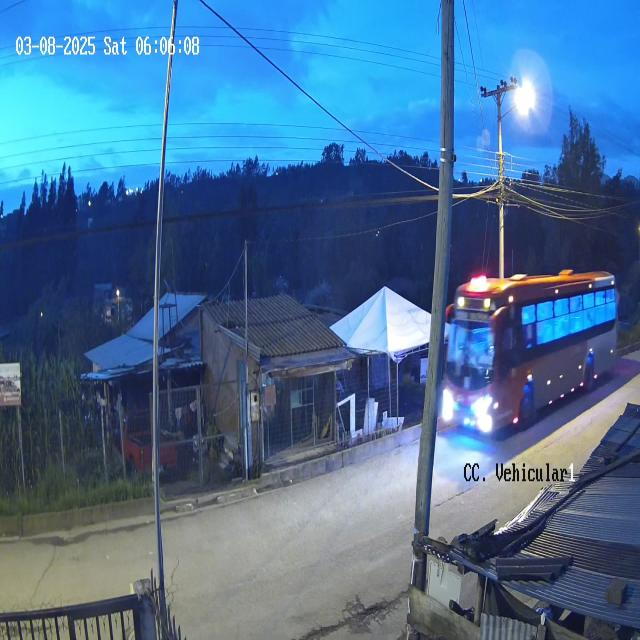BUS: (443, 273, 616, 442)
